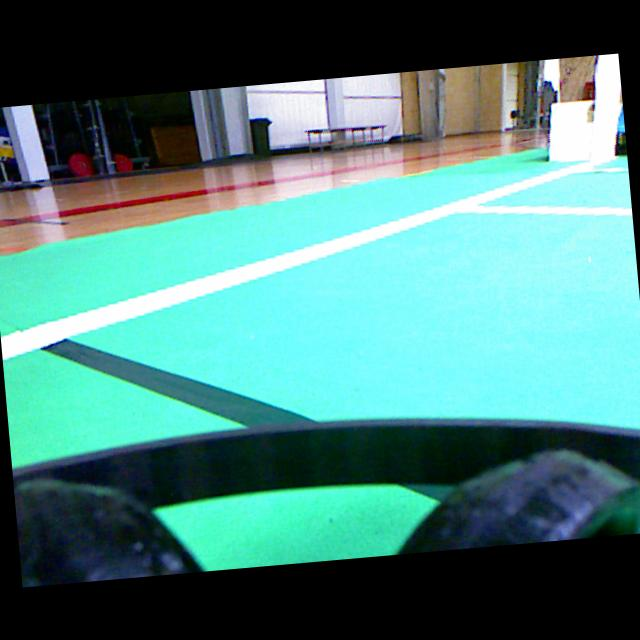goal: (591, 53, 620, 162)
